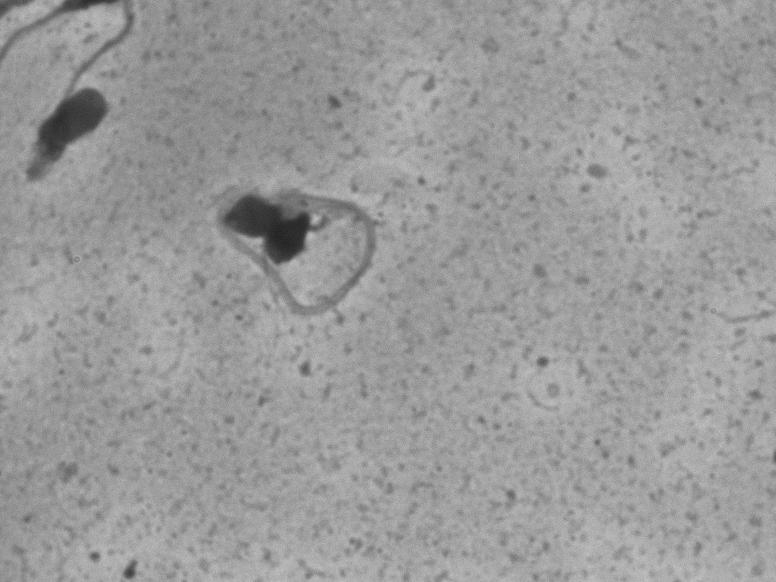Abnormal: (206, 135, 432, 359)
